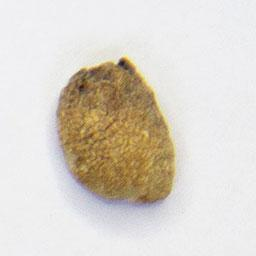defect: (52, 54, 179, 208)
